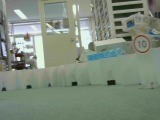speed_10: (132, 33, 152, 55)
